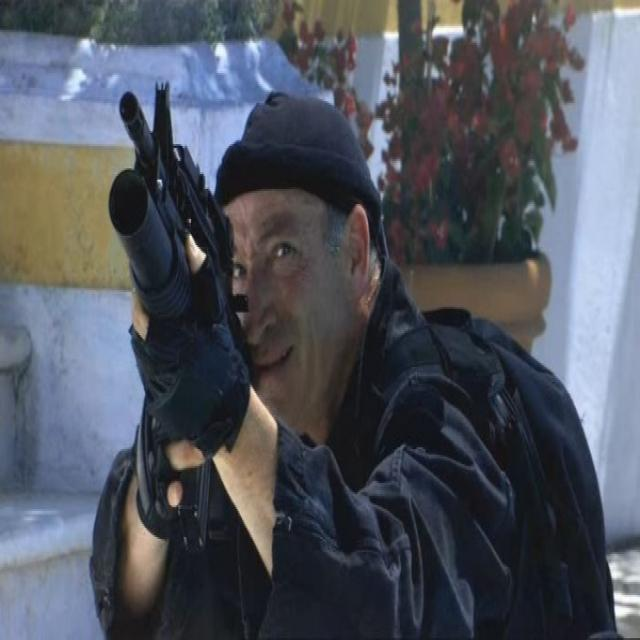rifle: (110, 75, 254, 563)
